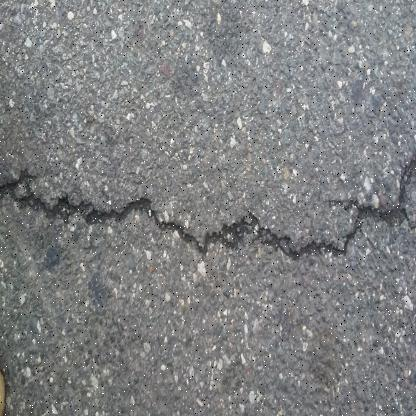Cracks: (0, 139, 415, 268)
